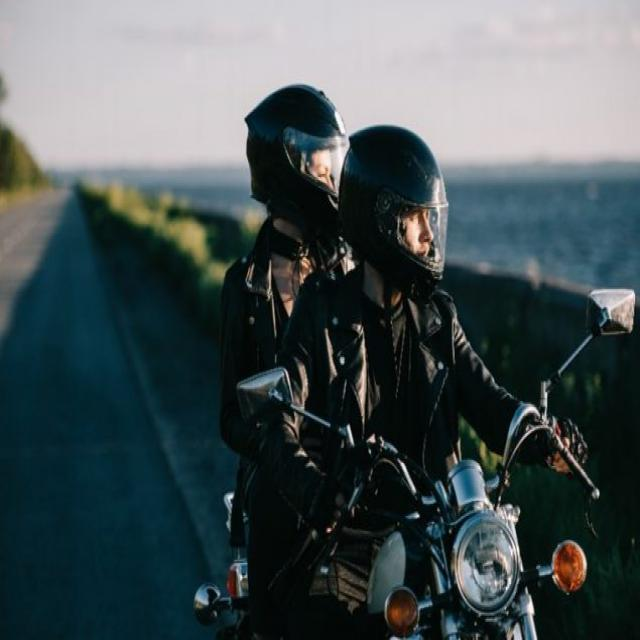With Helmet: (211, 66, 588, 640)
